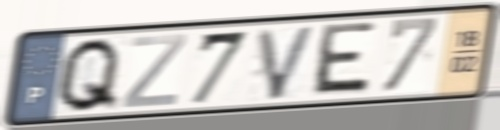7: (382, 15, 441, 97), (189, 30, 251, 107)
E: (307, 20, 379, 98)
Q: (52, 35, 125, 116)
V: (254, 23, 321, 103)
Z: (119, 31, 191, 110)
